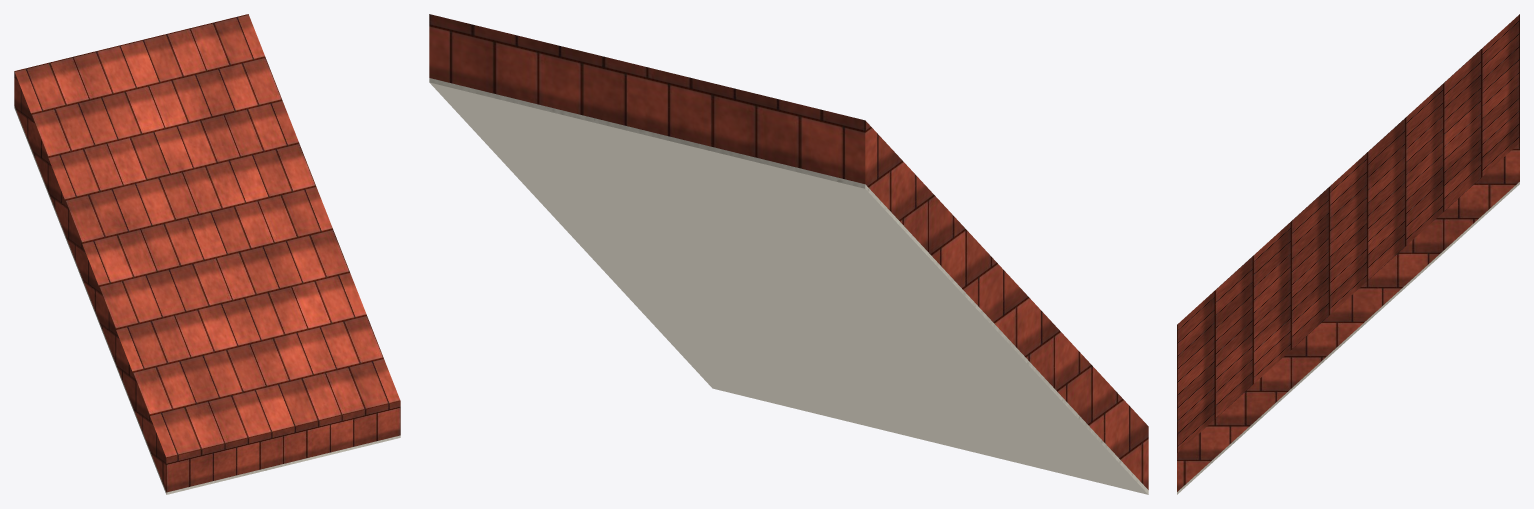
Rendered from garage_roof_house.glb.
The picture shows the model from 3 angles, left to right: view 1: azimuth 30°, elevation 25°; view 2: azimuth 150°, elevation 25°; view 3: azimuth 270°, elevation 25°; orthographic projection. The views are drawn at different scales.
Parts seen in each view (by area): view 1: garage_roof_house_roof_tiles, garage_roof_house_plaster; view 2: garage_roof_house_plaster, garage_roof_house_roof_tiles; view 3: garage_roof_house_roof_tiles, garage_roof_house_plaster.
Boxes of the visible parts, left/top/right/bottom form: garage_roof_house_roof_tiles: left=14, top=14, right=400, bottom=492; garage_roof_house_plaster: left=14, top=106, right=400, bottom=494; garage_roof_house_plaster: left=429, top=78, right=1148, bottom=494; garage_roof_house_roof_tiles: left=429, top=14, right=1148, bottom=489; garage_roof_house_roof_tiles: left=1177, top=14, right=1519, bottom=491; garage_roof_house_plaster: left=1177, top=182, right=1519, bottom=494.
Bounding box in the file's own units: 2 × 2.55 × 2.25.
Materials: 2 (2 with a texture image).
